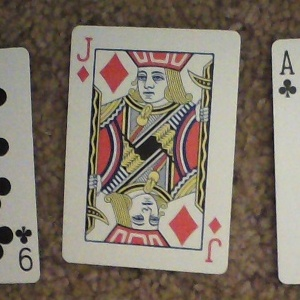card: (59, 25, 240, 275)
